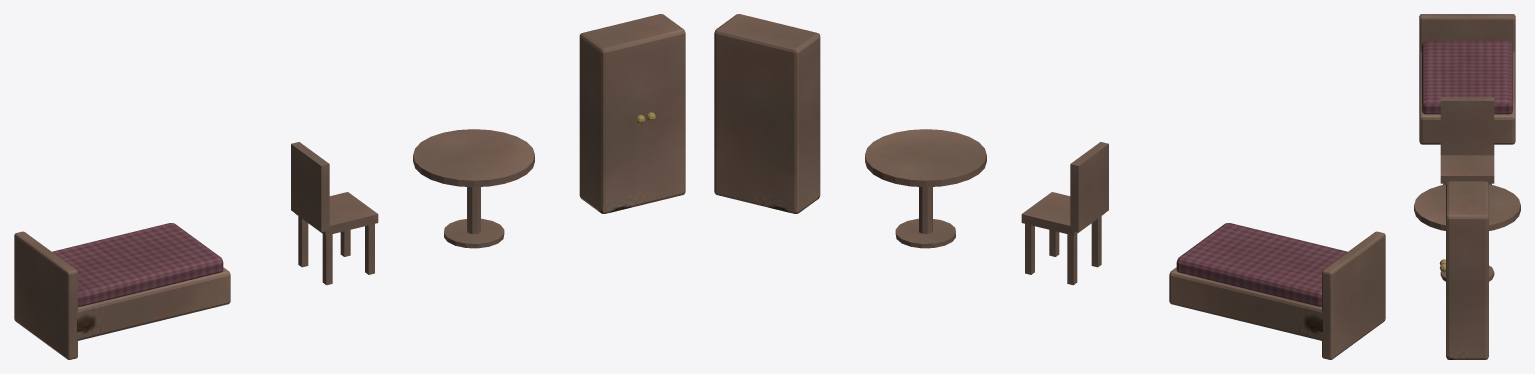
The model's file is TY30_DollhouseFurniture.glb.
The picture shows the model from 3 angles, left to right: view 1: azimuth 30°, elevation 25°; view 2: azimuth 150°, elevation 25°; view 3: azimuth 270°, elevation 25°; orthographic projection. The views are drawn at different scales.
Visible parts, largest first — view 1: TY30_DollhouseFurniture; view 2: TY30_DollhouseFurniture; view 3: TY30_DollhouseFurniture.
Boxes of the visible parts, x1=… form: TY30_DollhouseFurniture: x1=14, y1=14, x2=685, y2=359; TY30_DollhouseFurniture: x1=714, y1=14, x2=1385, y2=359; TY30_DollhouseFurniture: x1=1414, y1=14, x2=1520, y2=359.
Size of the model in its own units: 0.15 by 0.0375 by 0.025.
3 materials, 3 textured.
